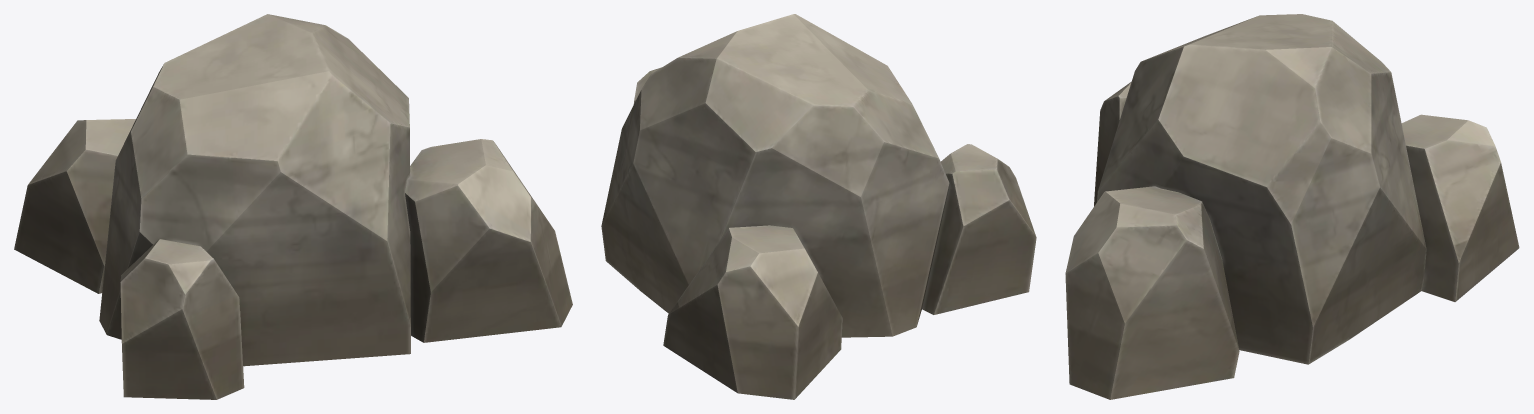
File: rock_granite_medium.glb
3 views of the same model, side by side, from view 1: azimuth 30°, elevation 25°; view 2: azimuth 150°, elevation 25°; view 3: azimuth 270°, elevation 25° (orthographic). The views are drawn at different scales.
Visible parts, largest first — view 1: Static_Mesh; view 2: Static_Mesh; view 3: Static_Mesh.
Boxes of the visible parts, left/top/right/bottom form: Static_Mesh: left=14, top=14, right=572, bottom=399; Static_Mesh: left=601, top=14, right=1036, bottom=399; Static_Mesh: left=1065, top=14, right=1519, bottom=399.
Bounding box in the file's own units: 1.64 × 0.9321 × 1.47.
Materials: 1 (1 with a texture image).
